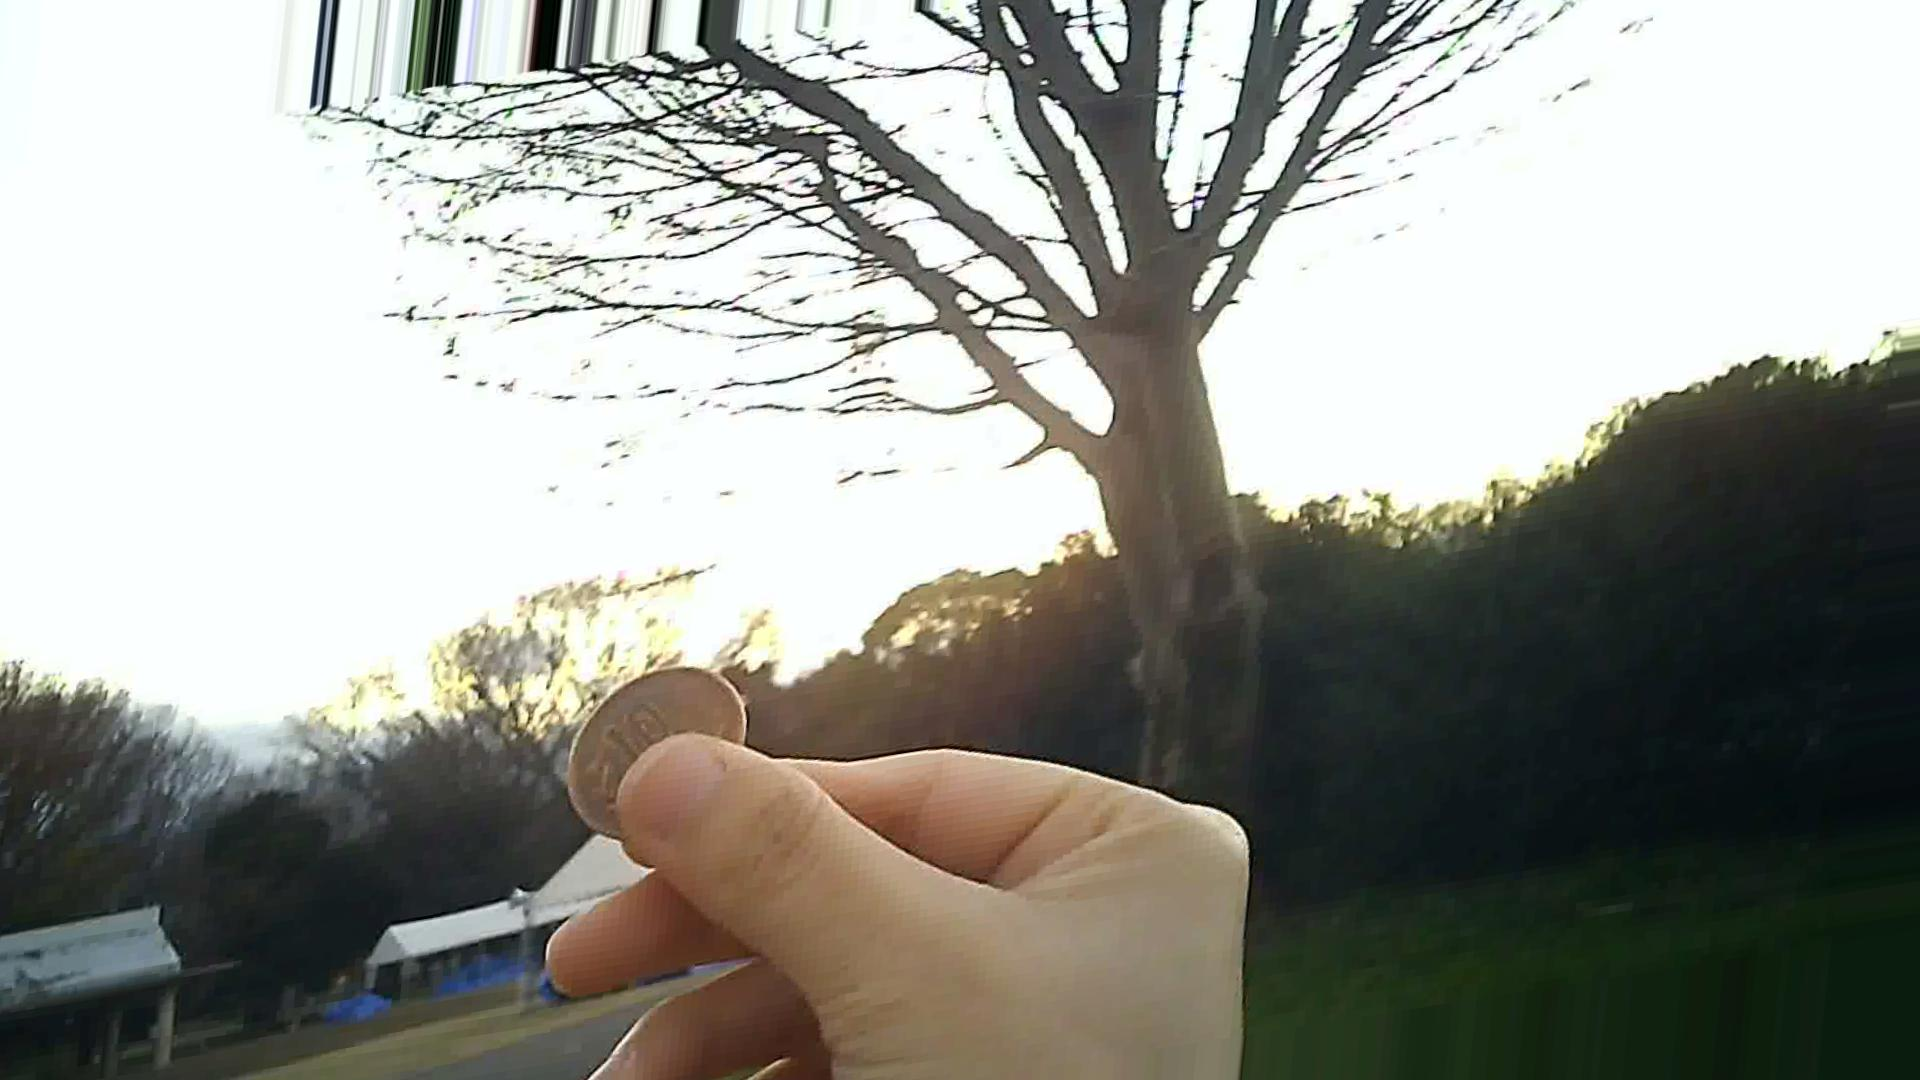10 Yen: (539, 647, 752, 829)
